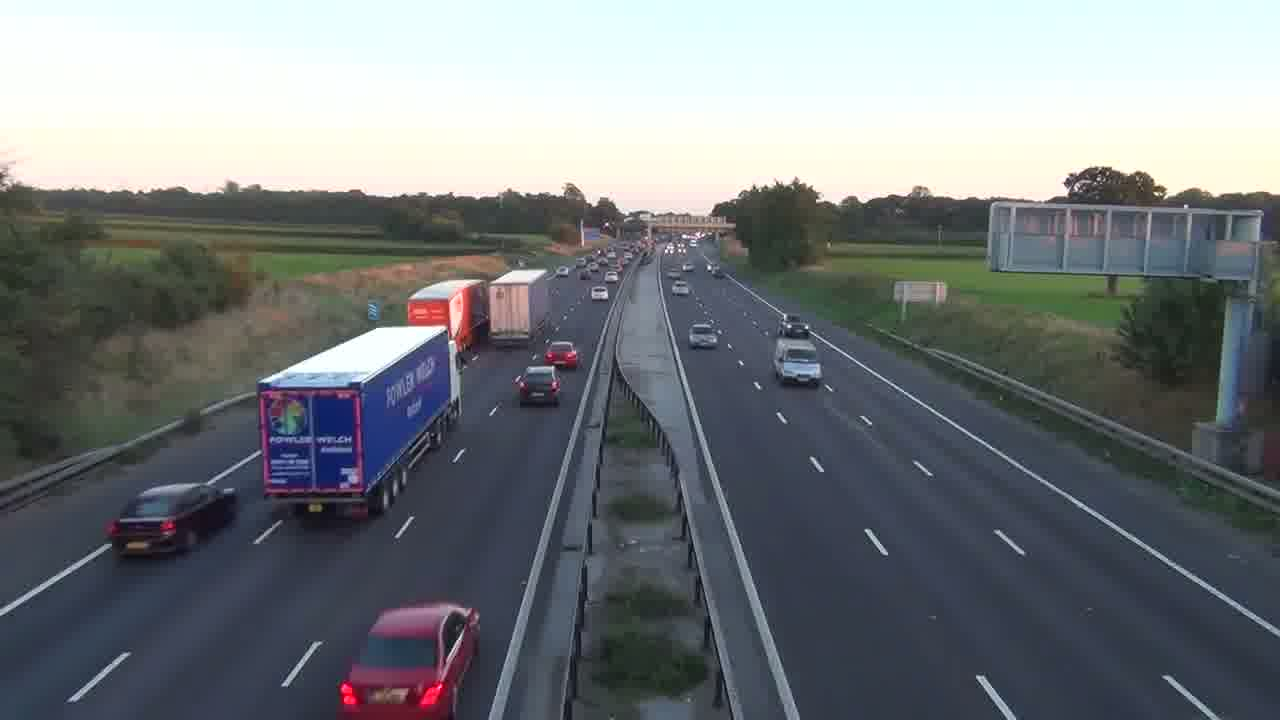car: (337, 598, 481, 718), (104, 480, 239, 559), (514, 365, 562, 406), (545, 341, 581, 370), (688, 320, 721, 350), (671, 280, 692, 296)
truck: (406, 278, 488, 361), (487, 269, 550, 348)
